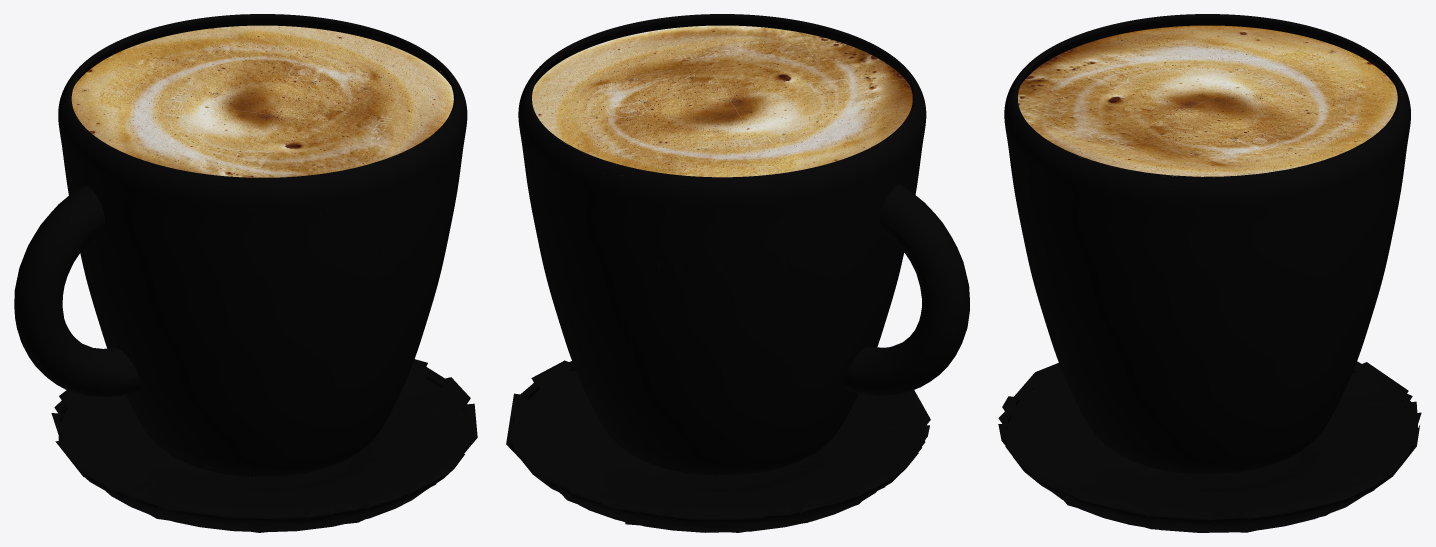
Rendered from coffee-cup.glb.
3 renders of one model, left to right at view 1: azimuth 30°, elevation 25°; view 2: azimuth 150°, elevation 25°; view 3: azimuth 270°, elevation 25°, orthographic.
Visible parts, largest first — view 1: Cylinder.026_cup.001_0.004, foam.001, Cylinder.027, Cylinder.026_cup.001_0.005, Torus.001, Cylinder.026_cup.001_0.003, Cylinder.026_cup.001_0.006, Cylinder.026_cup.001_0.002; view 2: foam.001, Cylinder.026_cup.001_0.004, Cylinder.027, Cylinder.026_cup.001_0.005, Cylinder.026_cup.001_0.003, Torus.001, Cylinder.026_cup.001_0.002, Cylinder.026_cup.001_0.006; view 3: Cylinder.026_cup.001_0.003, foam.001, Cylinder.027, Cylinder.026_cup.001_0.005, Cylinder.026_cup.001_0.004, Cylinder.026_cup.001_0.002, Cylinder.026_cup.001_0.006.
Boxes of the visible parts, x1,y1,x2,y2 form: Cylinder.026_cup.001_0.004: (80, 130, 445, 458); foam.001: (71, 25, 453, 177); Cylinder.027: (51, 359, 477, 532); Cylinder.026_cup.001_0.005: (58, 14, 463, 442); Torus.001: (14, 186, 140, 397); Cylinder.026_cup.001_0.003: (138, 14, 467, 473); Cylinder.026_cup.001_0.006: (74, 14, 457, 470); Cylinder.026_cup.001_0.002: (75, 14, 449, 477); foam.001: (532, 25, 912, 177); Cylinder.026_cup.001_0.004: (631, 14, 926, 457); Cylinder.027: (506, 360, 930, 532); Cylinder.026_cup.001_0.005: (527, 14, 924, 450); Cylinder.026_cup.001_0.003: (518, 42, 846, 472); Torus.001: (844, 185, 969, 395); Cylinder.026_cup.001_0.002: (536, 20, 908, 475); Cylinder.026_cup.001_0.006: (528, 14, 912, 437); Cylinder.026_cup.001_0.003: (1034, 108, 1410, 467); foam.001: (1018, 25, 1397, 176); Cylinder.027: (998, 361, 1421, 532); Cylinder.026_cup.001_0.005: (1009, 14, 1410, 308); Cylinder.026_cup.001_0.004: (1004, 26, 1103, 432); Cylinder.026_cup.001_0.002: (1021, 20, 1410, 474); Cylinder.026_cup.001_0.006: (1014, 18, 1410, 346).
Bounding box in the file's own units: 27.33 × 21.7 × 23.15.
Materials: 2 (1 with a texture image).
